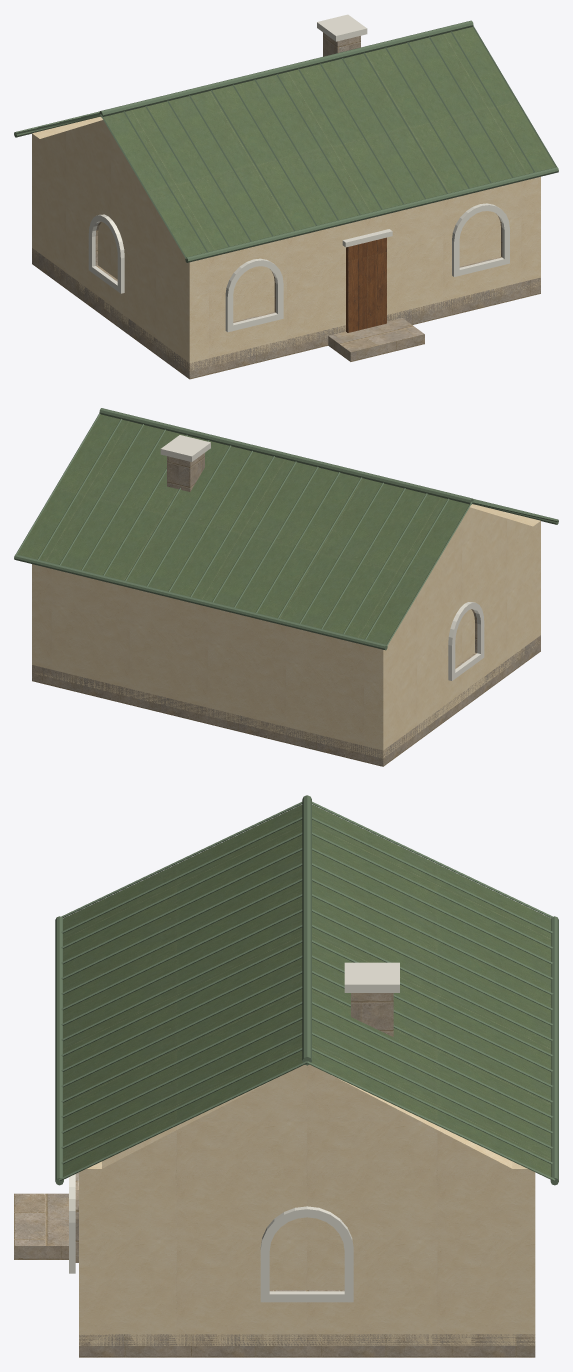
File: parish_house.glb
The picture shows the model from 3 angles, top to bottom: view 1: azimuth 30°, elevation 25°; view 2: azimuth 150°, elevation 25°; view 3: azimuth 270°, elevation 25°; orthographic projection. The views are drawn at different scales.
Parts seen in each view (by area): view 1: parish_house; view 2: parish_house; view 3: parish_house.
Boxes of the visible parts, x1,y1,x2,y2 form: parish_house: (14,14,558,379); parish_house: (14,408,558,766); parish_house: (14,795,558,1357).
Bounding box in the file's own units: 9.54 × 5.34 × 8.37.
Materials: 8 (4 with a texture image).
